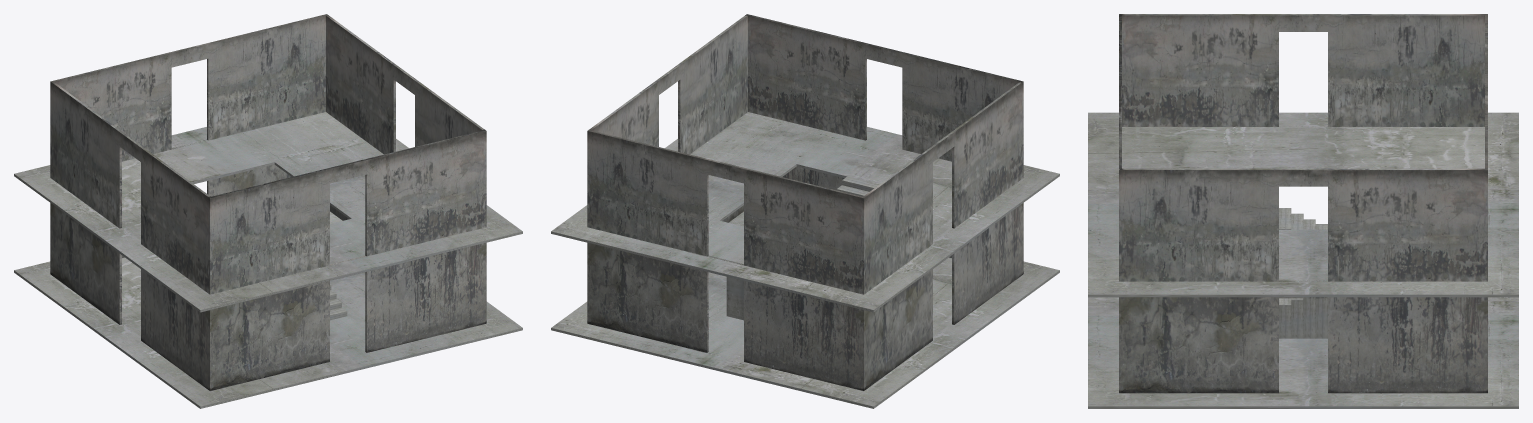
Rendered from staircase.obj.
3 views of the same model, side by side, from view 1: azimuth 30°, elevation 25°; view 2: azimuth 150°, elevation 25°; view 3: azimuth 270°, elevation 25° (orthographic). The views are drawn at different scales.
Visible parts, largest first — view 1: Boole.1; view 2: Boole.1; view 3: Boole.1.
Boxes of the visible parts, left/top/right/bottom form: Boole.1: left=14, top=14, right=522, bottom=408; Boole.1: left=551, top=14, right=1059, bottom=408; Boole.1: left=1088, top=14, right=1518, bottom=408.
Bounding box in the file's own units: 7 × 4.05 × 7.
Materials: 2 (2 with a texture image).
